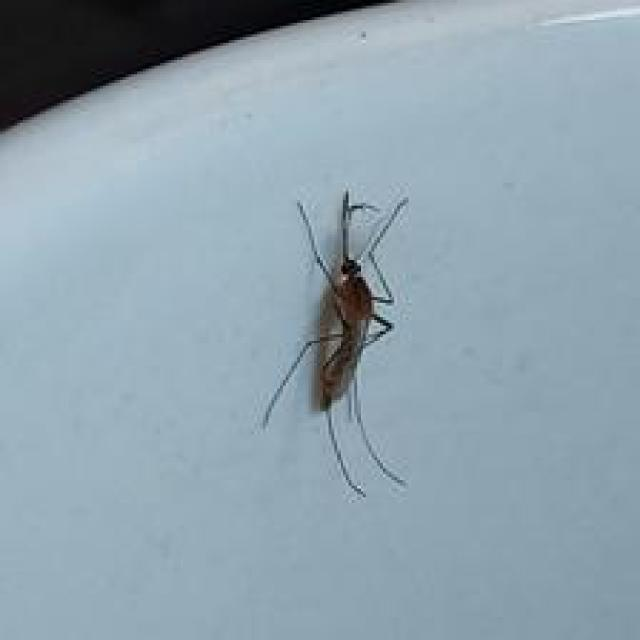Culex: (260, 187, 411, 499)
